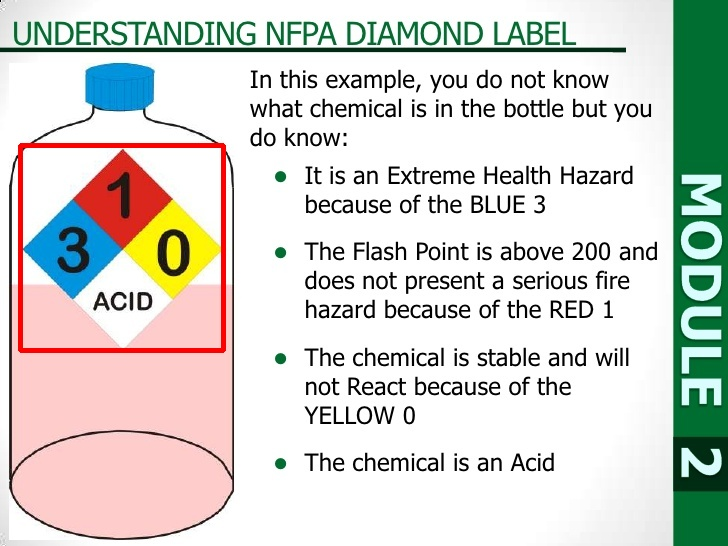nfpa: (20, 145, 223, 350)
